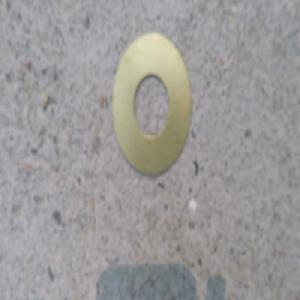Washer: (115, 46, 192, 181)
